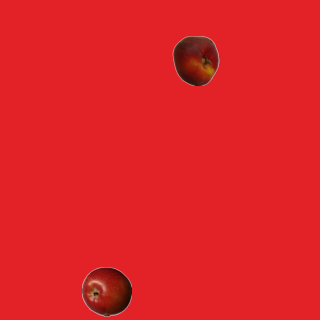Apple Braeburn: (81, 266, 131, 316)
Nectarine Flat: (170, 35, 220, 85)
